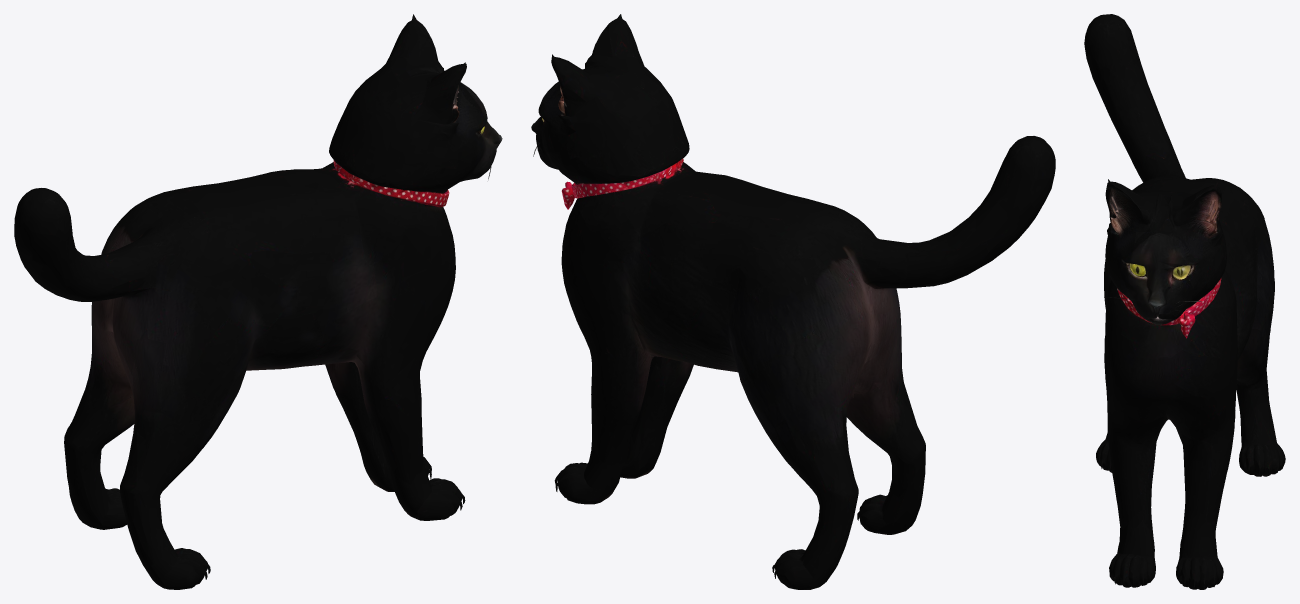
File: TREASMOG.glb
The picture shows the model from 3 angles, left to right: view 1: azimuth 30°, elevation 25°; view 2: azimuth 150°, elevation 25°; view 3: azimuth 270°, elevation 25°; orthographic projection. The views are drawn at different scales.
Parts seen in each view (by area): view 1: fit; view 2: fit; view 3: fit.
Part boxes in pixels (x1,y1,x2,y2): fit: [14, 14, 502, 589]; fit: [531, 14, 1055, 589]; fit: [1084, 14, 1285, 589].
Size of the model in its own units: 1.16 by 1 by 0.4435.
1 material, 1 textured.
